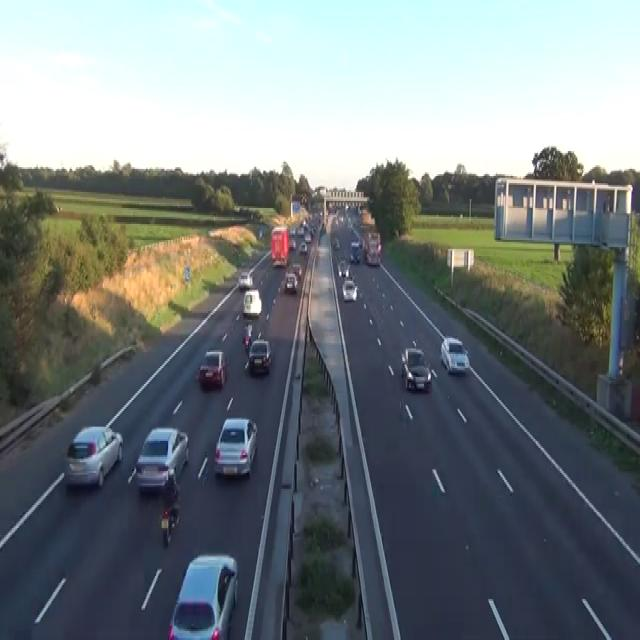Car: (167, 553, 238, 638), (127, 464, 180, 546), (133, 425, 189, 492), (64, 425, 123, 487), (213, 416, 257, 476), (400, 347, 431, 391), (196, 348, 228, 389), (440, 336, 469, 373), (160, 501, 180, 546), (247, 338, 272, 373), (243, 322, 261, 354), (242, 288, 262, 316), (342, 279, 357, 301), (237, 270, 252, 290), (349, 240, 361, 263), (284, 272, 297, 293), (365, 247, 380, 265), (243, 324, 252, 352), (289, 263, 302, 279), (337, 260, 348, 278), (299, 240, 307, 254), (332, 236, 339, 249), (344, 267, 353, 277), (296, 226, 304, 236), (289, 238, 296, 249), (304, 231, 311, 242), (289, 226, 296, 236), (321, 222, 326, 233), (258, 228, 263, 238)
Truck: (271, 226, 289, 266), (362, 229, 381, 265)
